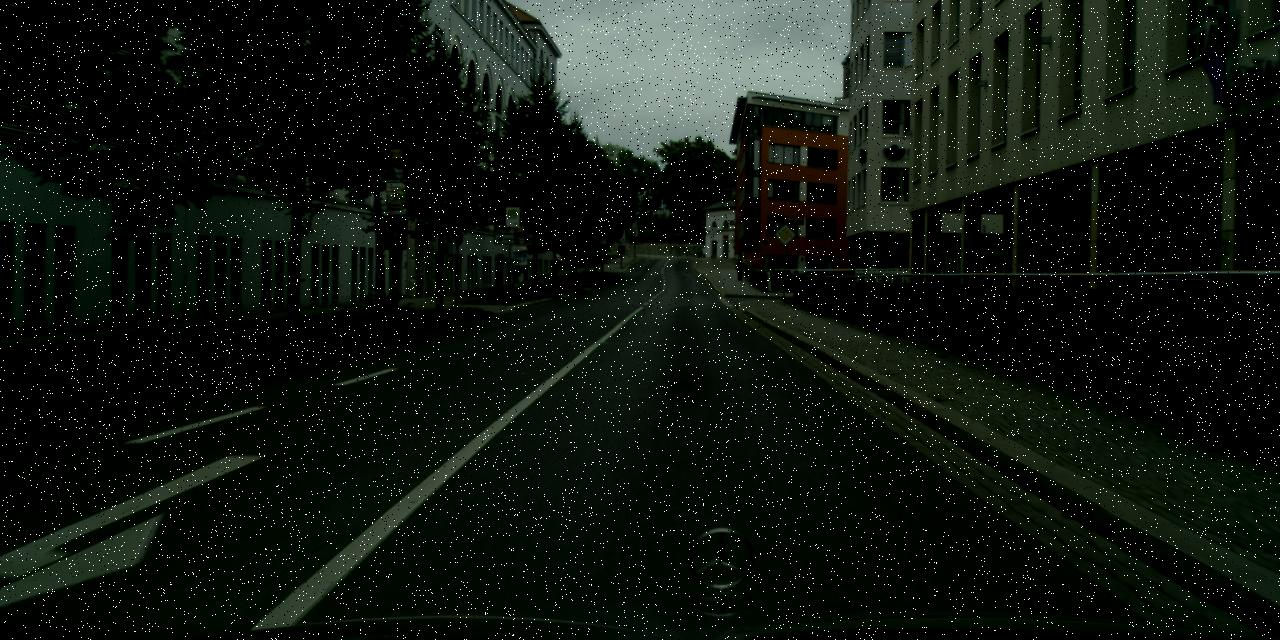ped: (736, 260, 744, 280)
